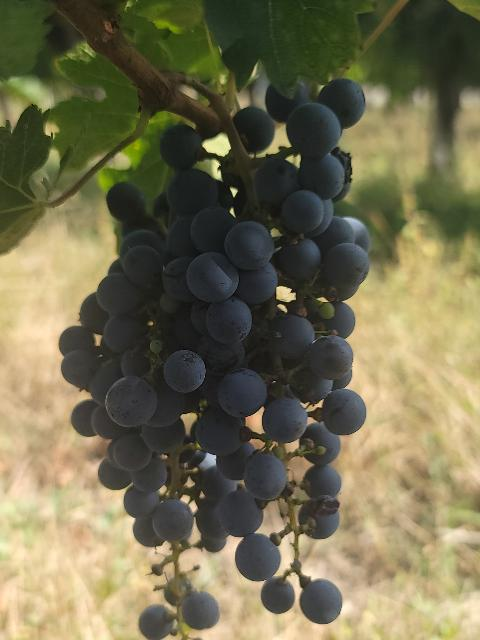grapes: (60, 80, 370, 640)
